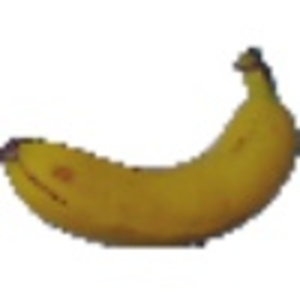banana: (1, 41, 297, 252)
